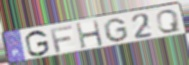2: (130, 13, 154, 41)
F: (49, 24, 74, 54)
G: (24, 30, 51, 59), (102, 17, 130, 43)
H: (75, 19, 105, 50)
Q: (155, 9, 181, 34)
